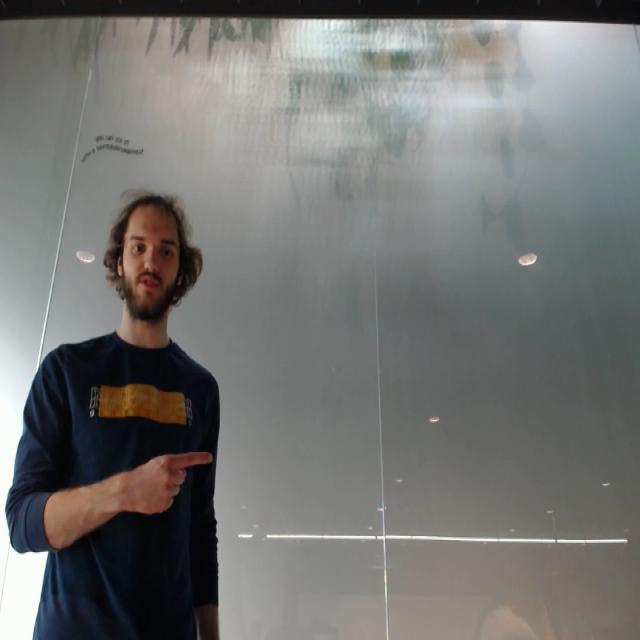right: (120, 444, 218, 520)
